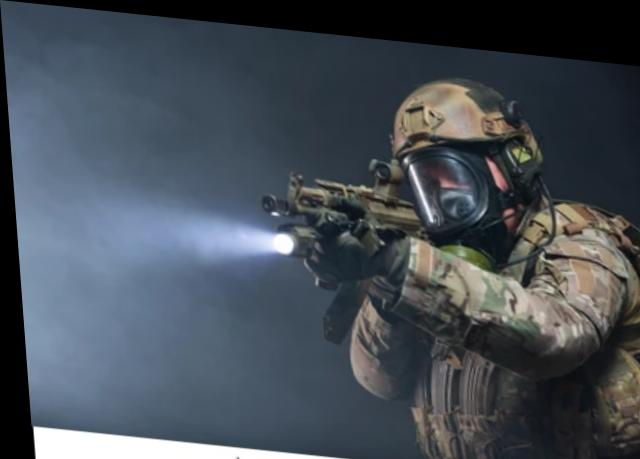other: (261, 52, 640, 458)
